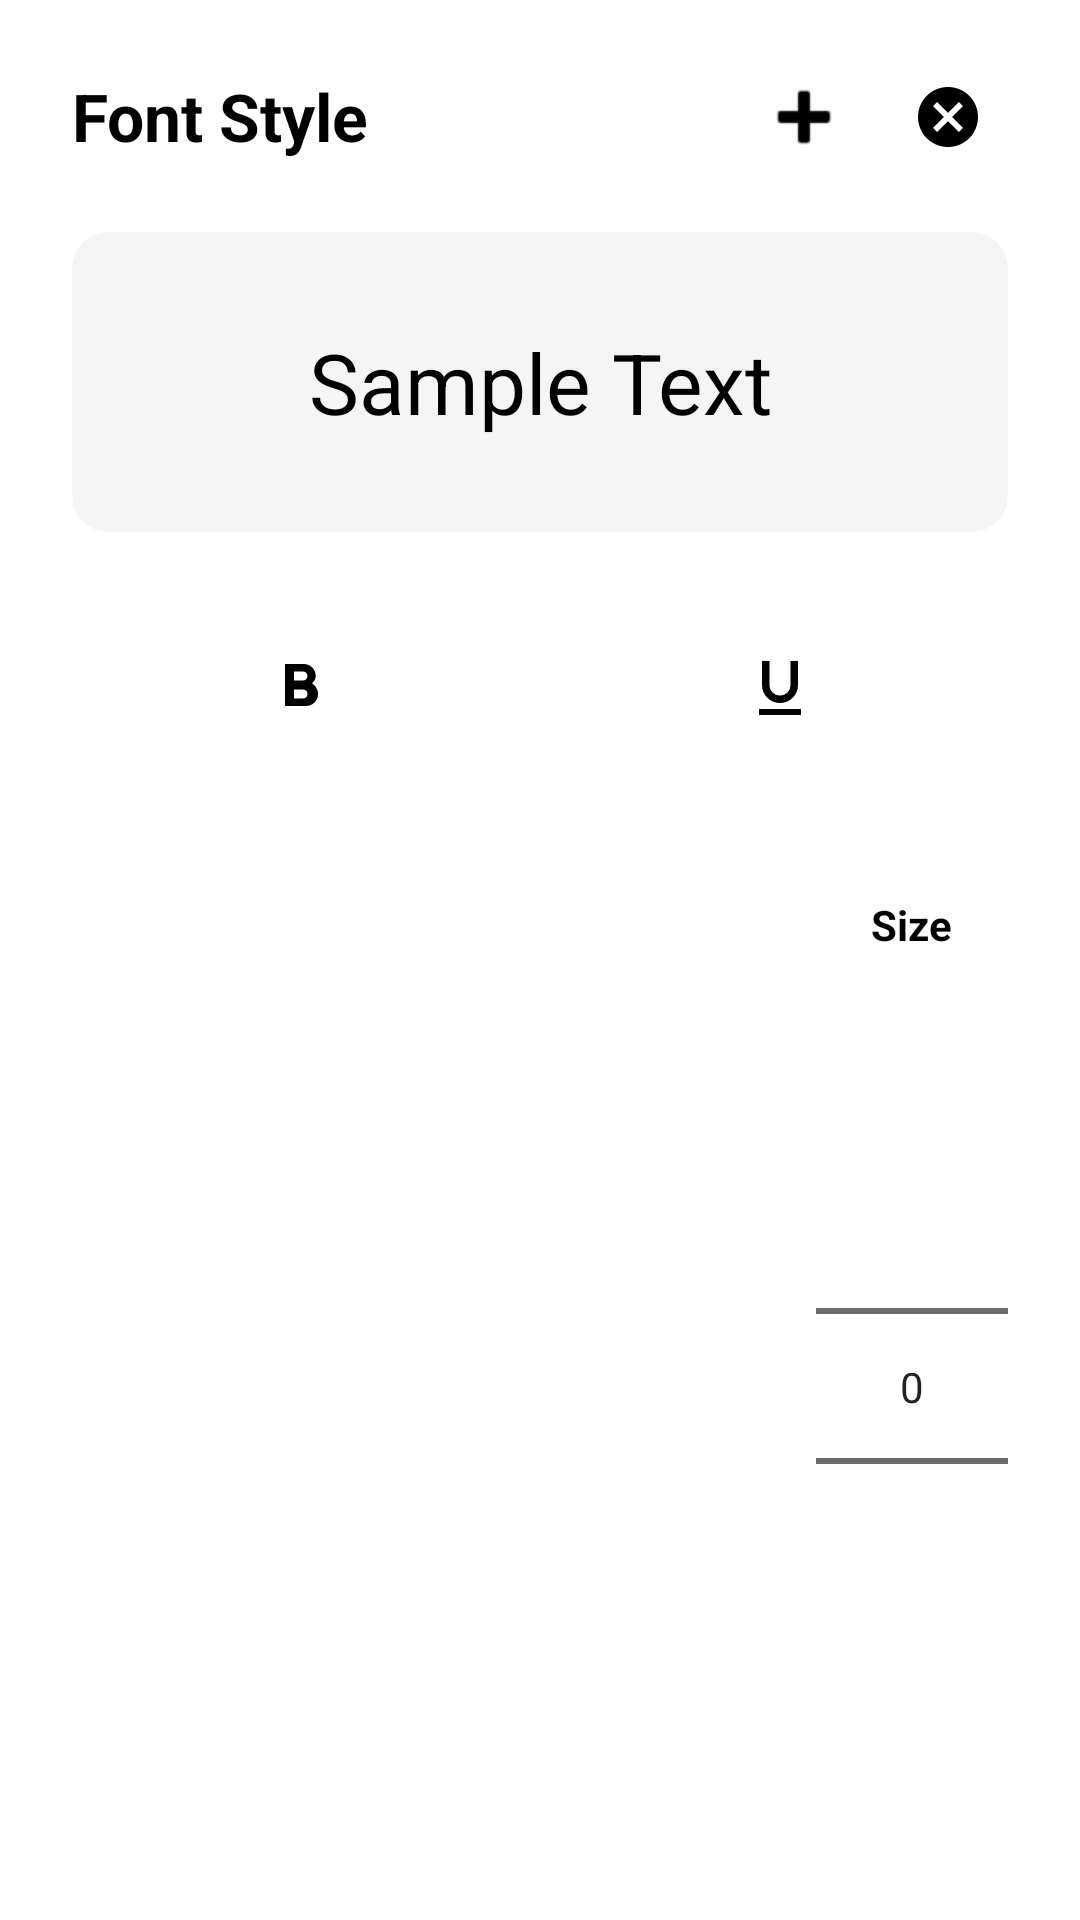

Screen size 1080 × 1920. Icon name, then its box in pixels as rect(x1, y1, x2, y2):
add: rect(777, 90, 831, 144)
cancel: rect(918, 87, 978, 147)
format: rect(285, 664, 318, 706)
format underlined: rect(759, 661, 801, 715)
